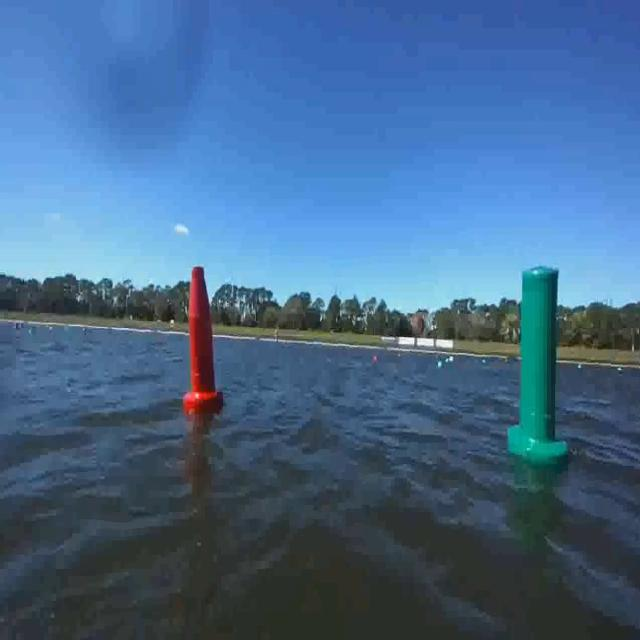green-column-buoy: (509, 264, 569, 464)
red-column-buoy: (186, 262, 224, 415)
